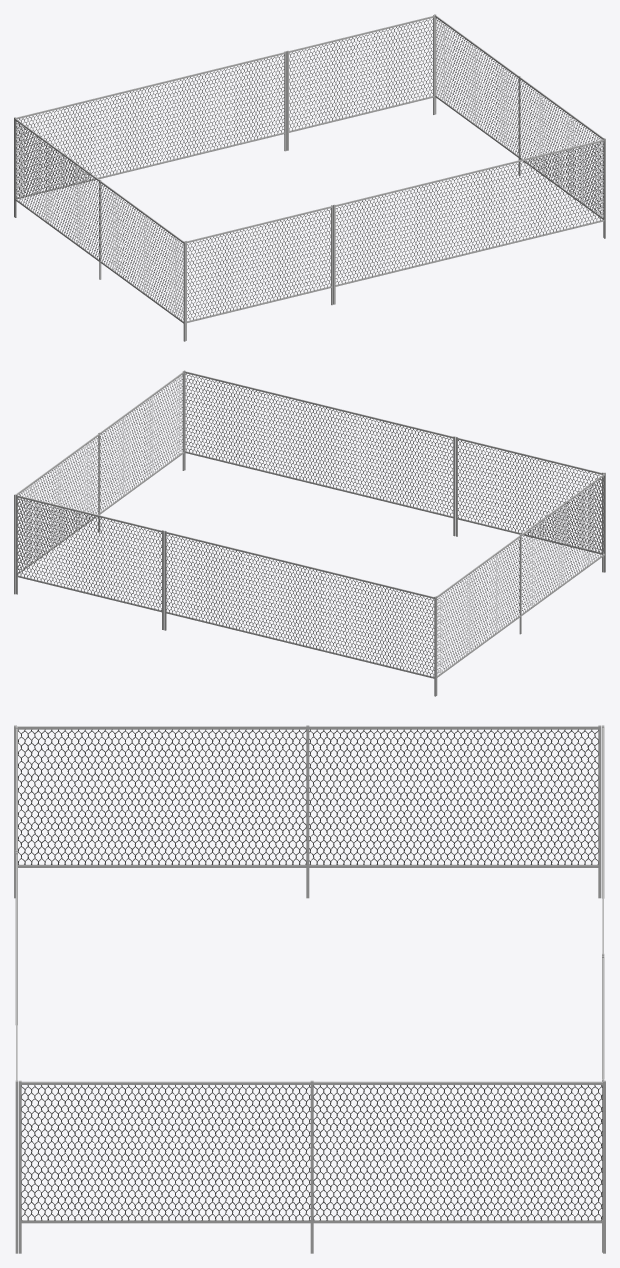
File: mallbil_rooftopfence03a.fbx
The picture shows the model from 3 angles, top to bottom: view 1: azimuth 30°, elevation 25°; view 2: azimuth 150°, elevation 25°; view 3: azimuth 270°, elevation 25°; orthographic projection. The views are drawn at different scales.
Parts seen in each view (by area): view 1: mallbil_rooftopfence03a; view 2: mallbil_rooftopfence03a; view 3: mallbil_rooftopfence03a.
Boxes of the visible parts, bbox=[...] form: mallbil_rooftopfence03a: bbox=[14, 14, 605, 341]; mallbil_rooftopfence03a: bbox=[14, 370, 605, 696]; mallbil_rooftopfence03a: bbox=[14, 725, 605, 1253].
Size of the model in its own units: 963 by 217 by 676.
